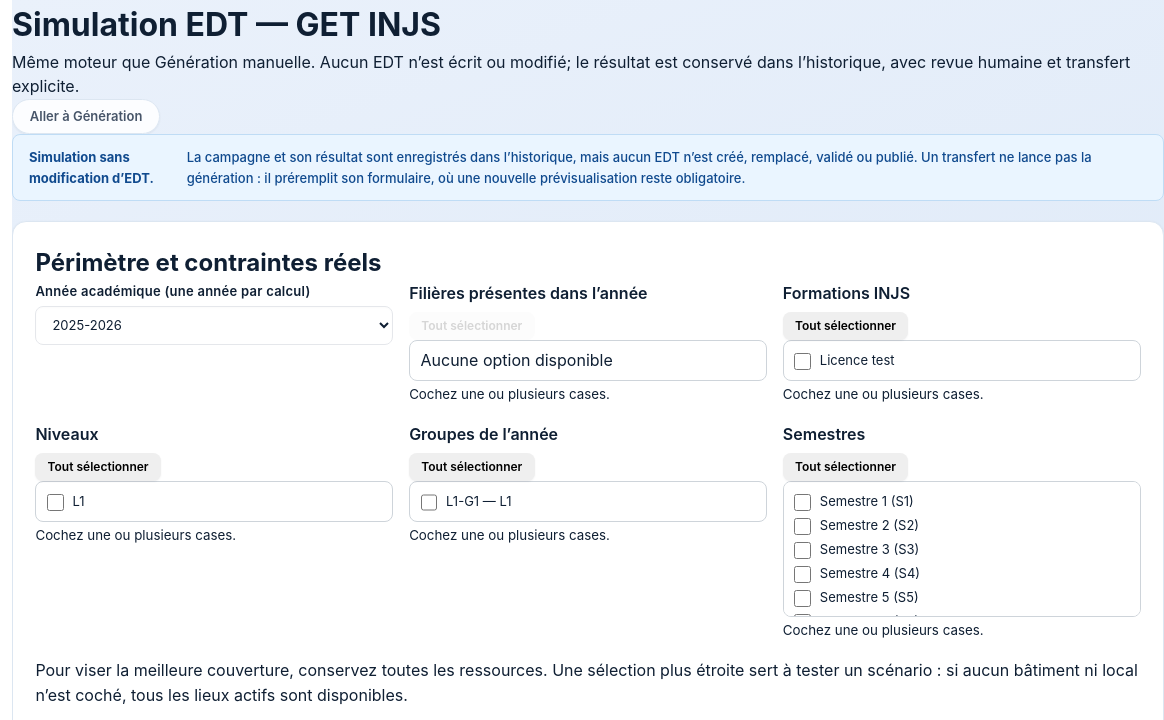
Test: GET INJS — simulation non destructive › permet de cocher les options individuellement ou de tout sélectionner
What coordinates should you click on to do the following:
click the button with aria-label "Tout sélectionner : Niveaux"
I would click on:
 (98, 467)
Its box is [35,453,161,481].
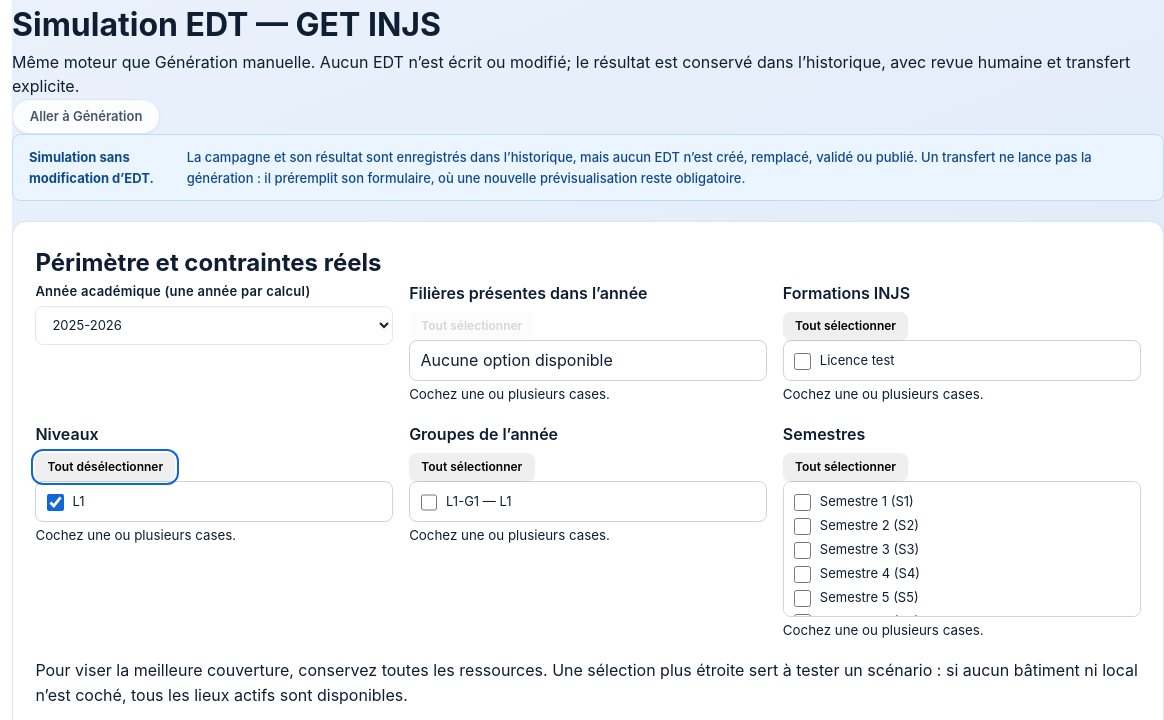
expect the checkbox labelled "L1" is checked: met, box [47,494,64,511]
expect the button with aria-label "Tout désélectionner : Niveaux" is shown: met, box [35,453,175,481]
